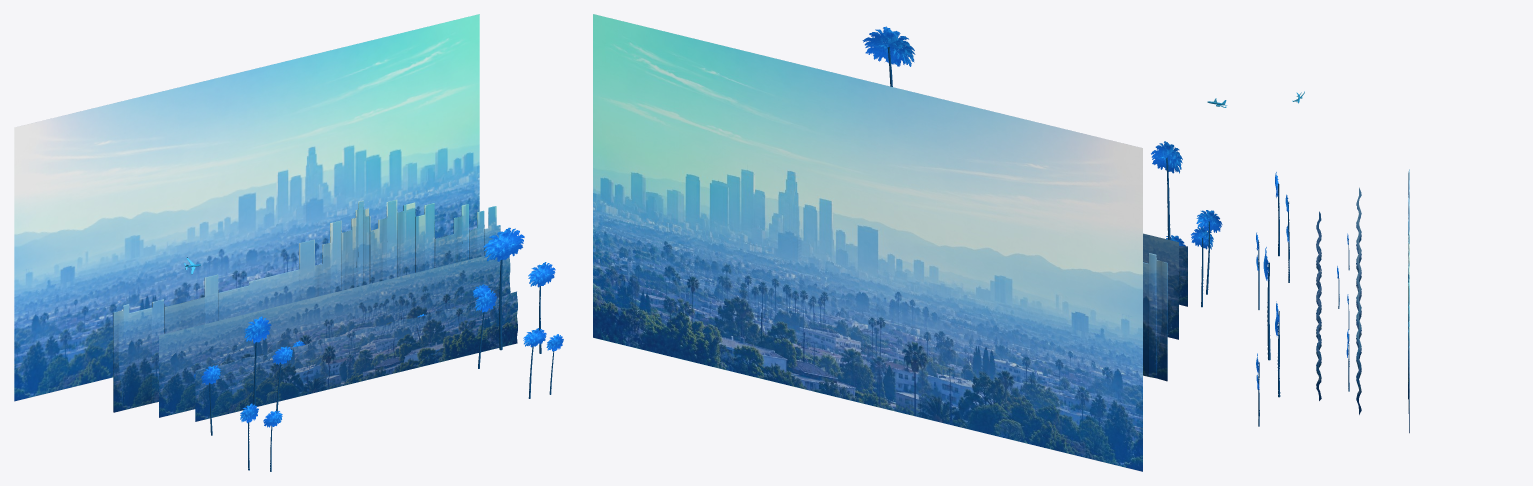
3 views of the same model, side by side, from view 1: azimuth 30°, elevation 25°; view 2: azimuth 150°, elevation 25°; view 3: azimuth 270°, elevation 25° (orthographic). The views are drawn at different scales.
Visible parts, largest first — view 1: Sky_Gradient, Distant downtown and towers, Mid city blocks, Near city blocks, Palm_Foreground_2; view 2: Sky_Gradient, Distant downtown and towers, Mid city blocks, Palm_Foreground_2, Palm_A; view 3: Mid city blocks, Near city blocks, Distant downtown and towers.
Part boxes in pixels (x1=…): Sky_Gradient: x1=14, y1=14, x2=479, y2=401; Distant downtown and towers: x1=113, y1=199, x2=500, y2=412; Mid city blocks: x1=159, y1=254, x2=510, y2=417; Near city blocks: x1=195, y1=291, x2=517, y2=421; Palm_Foreground_2: x1=483, y1=227, x2=524, y2=261; Sky_Gradient: x1=593, y1=14, x2=1142, y2=471; Distant downtown and towers: x1=1143, y1=253, x2=1167, y2=381; Mid city blocks: x1=1143, y1=233, x2=1178, y2=339; Palm_Foreground_2: x1=862, y1=26, x2=915, y2=66; Palm_A: x1=1151, y1=141, x2=1182, y2=173; Mid city blocks: x1=1356, y1=187, x2=1361, y2=414; Near city blocks: x1=1316, y1=211, x2=1321, y2=400; Distant downtown and towers: x1=1408, y1=169, x2=1409, y2=433.
Size of what is drawn, in the model's own units: 49.11 by 27.62 by 26.29.
15 materials, 6 textured.
